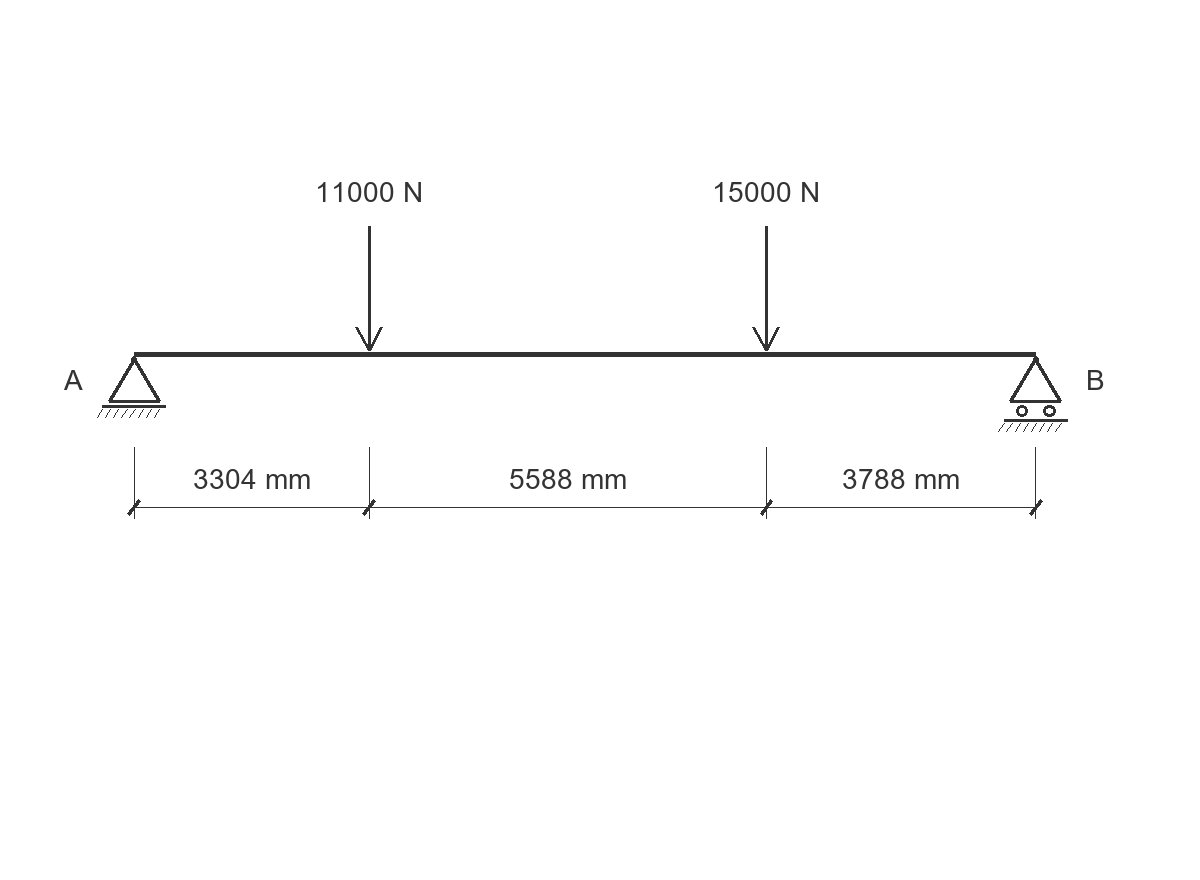pin_support: (97, 356, 166, 418)
point_load: (355, 226, 383, 351), (752, 226, 780, 351)
roller_support: (998, 356, 1068, 432)
